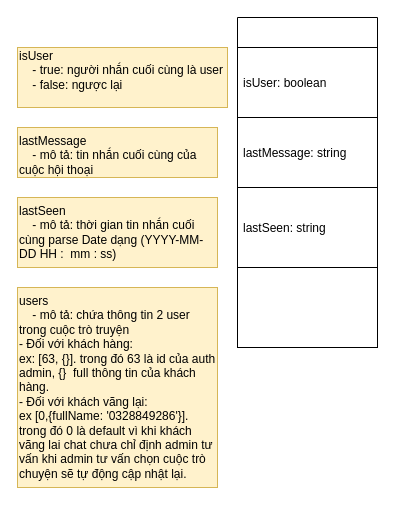
This 395x528 diagram has some shape labels left out. Each missing label, with the box of its shape:
conversations: (236, 16, 378, 268)
users: array: (236, 266, 378, 348)
